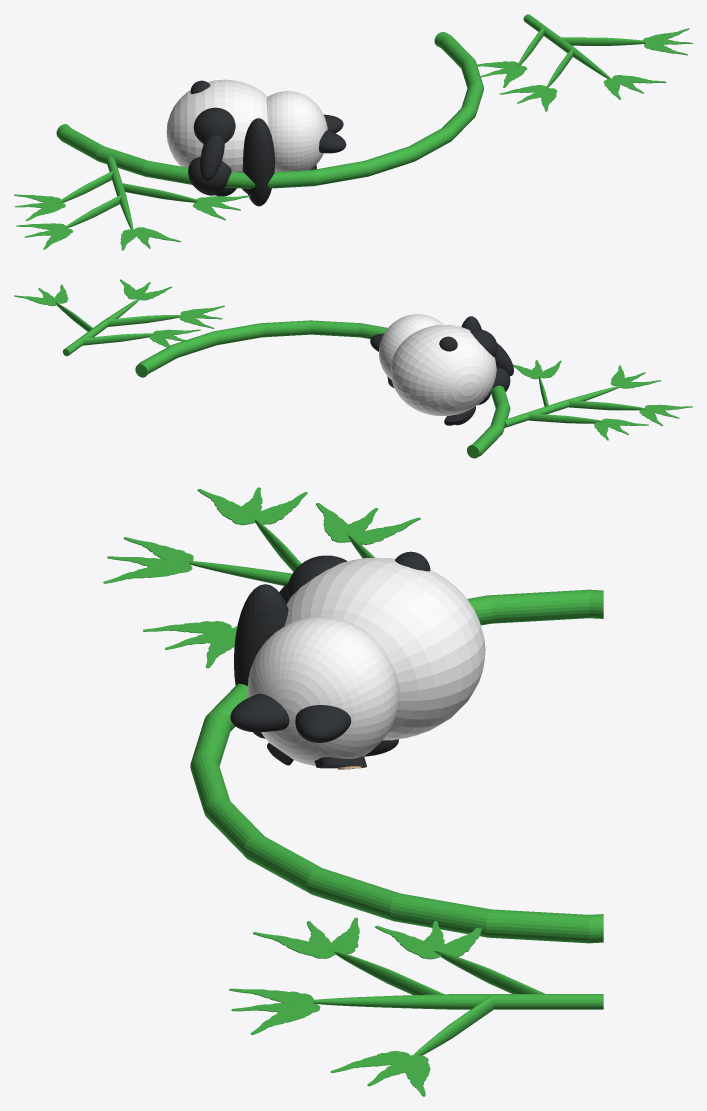
The model's file is tinker.obj.
3 renders of one model, top to bottom at view 1: azimuth 30°, elevation 25°; view 2: azimuth 150°, elevation 25°; view 3: azimuth 270°, elevation 25°, orthographic. The views are drawn at different scales.
Visible parts, largest first — view 1: group_0_4634441, group_0_16448250, group_0_2829873; view 2: group_0_4634441, group_0_16448250, group_0_2829873; view 3: group_0_4634441, group_0_16448250, group_0_2829873.
Part boxes in pixels (box(x1,y1,x2,y2)): group_0_4634441: box(14, 14, 692, 250); group_0_16448250: box(166, 79, 327, 172); group_0_2829873: box(188, 80, 346, 206); group_0_4634441: box(14, 279, 692, 458); group_0_16448250: box(379, 314, 496, 415); group_0_2829873: box(370, 316, 513, 425); group_0_4634441: box(103, 487, 603, 1096); group_0_16448250: box(247, 557, 485, 769); group_0_2829873: box(230, 551, 430, 769).
Bounding box in the file's own units: 183 × 25 × 63.59.
